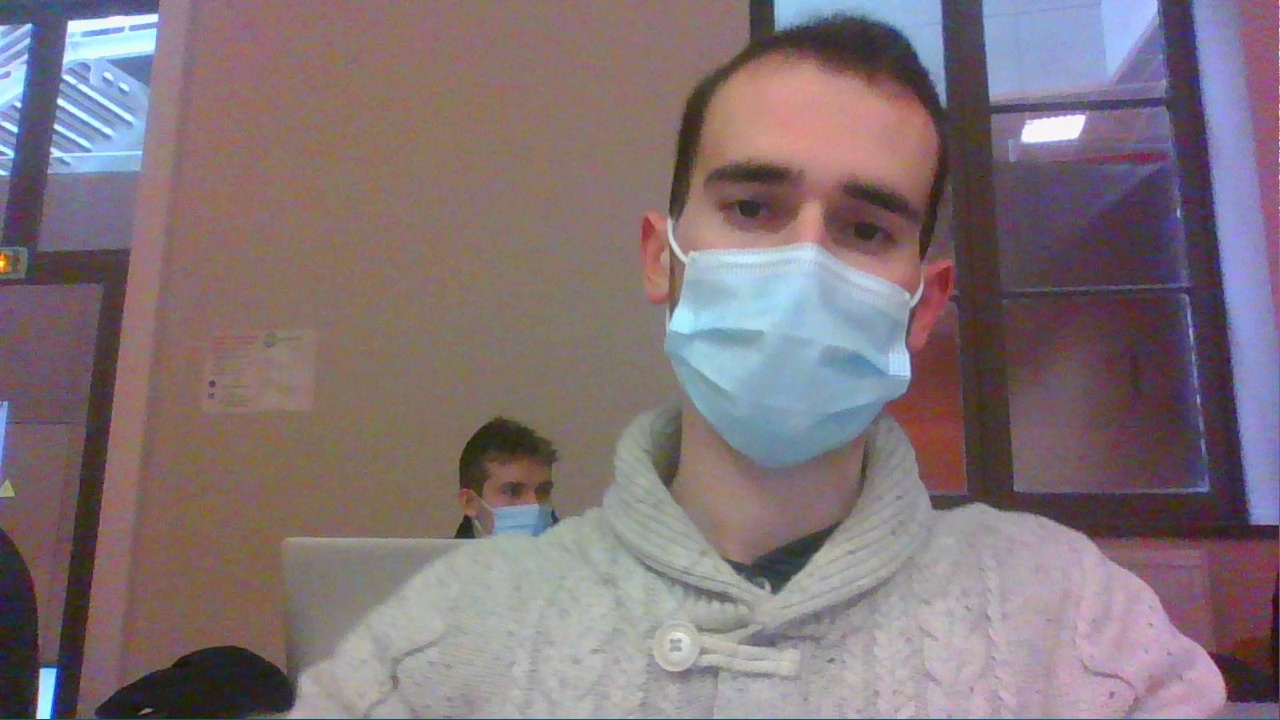mask: (598, 11, 929, 475)
